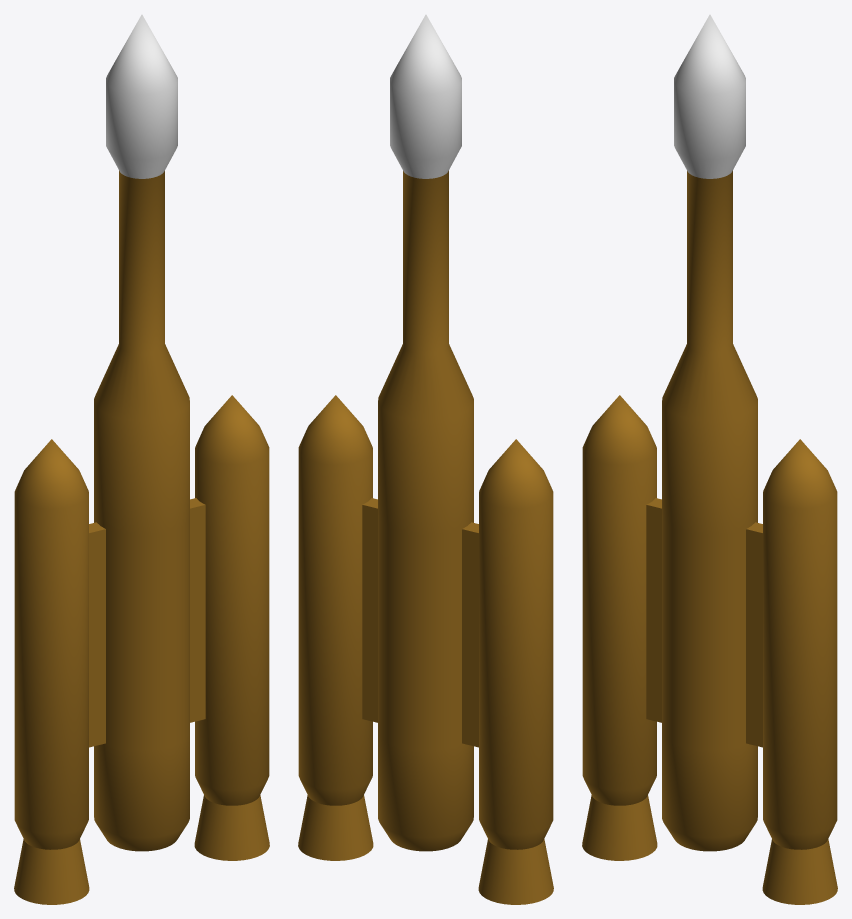
File: rocket-1.fbx
3 renders of one model, left to right at view 1: azimuth 30°, elevation 25°; view 2: azimuth 150°, elevation 25°; view 3: azimuth 330°, elevation 25°, orthographic.
Parts seen in each view (by area): view 1: Rocket; view 2: Rocket; view 3: Rocket.
Boxes of the visible parts, x1,y1,x2,y2 form: Rocket: [14, 14, 269, 904]; Rocket: [298, 14, 553, 904]; Rocket: [582, 14, 837, 904].
Size of the model in its own units: 786 by 2605 by 266.
